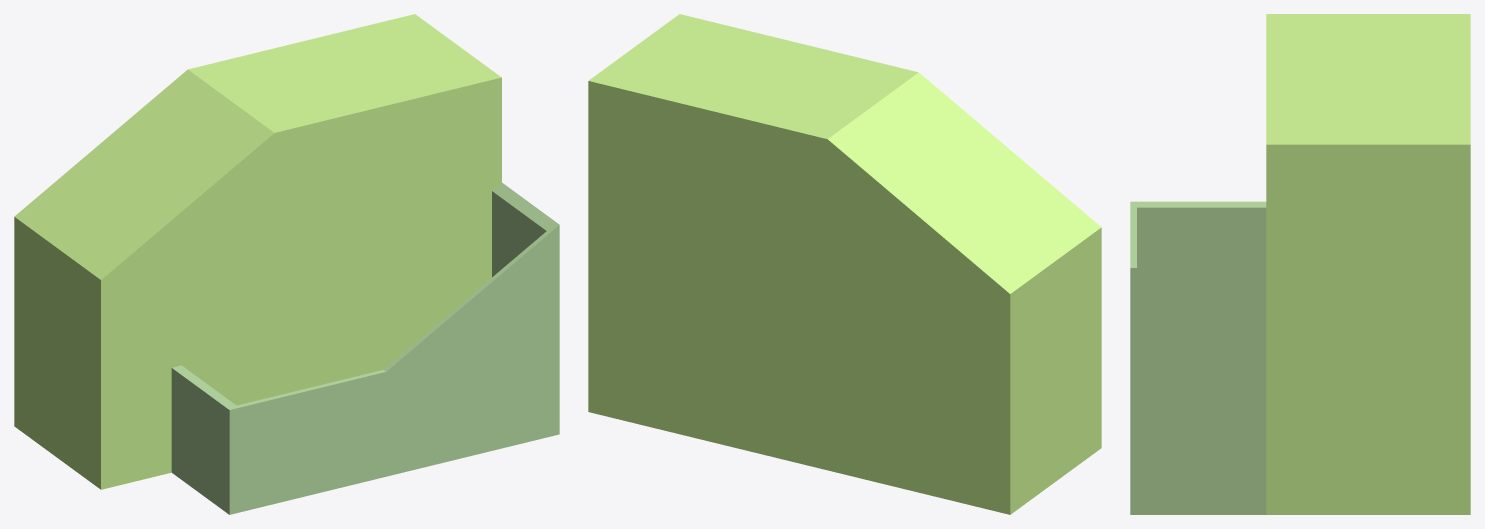
The picture shows the model from 3 angles, left to right: view 1: azimuth 30°, elevation 25°; view 2: azimuth 150°, elevation 25°; view 3: azimuth 270°, elevation 25°; orthographic projection. The views are drawn at different scales.
Visible parts, largest first — view 1: Mesh_0.001; view 2: Mesh_0.001; view 3: Mesh_0.001.
Part boxes in pixels (box(x1,y1,x2,y2)): Mesh_0.001: box(14, 14, 559, 514); Mesh_0.001: box(588, 14, 1101, 514); Mesh_0.001: box(1130, 14, 1470, 514).
Size of the model in its own units: 4 by 3 by 2.5.
